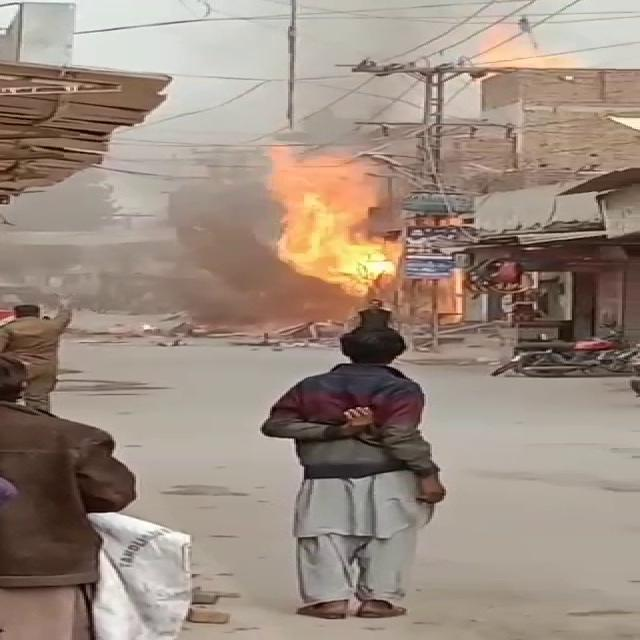Fire: (256, 145, 408, 318)
